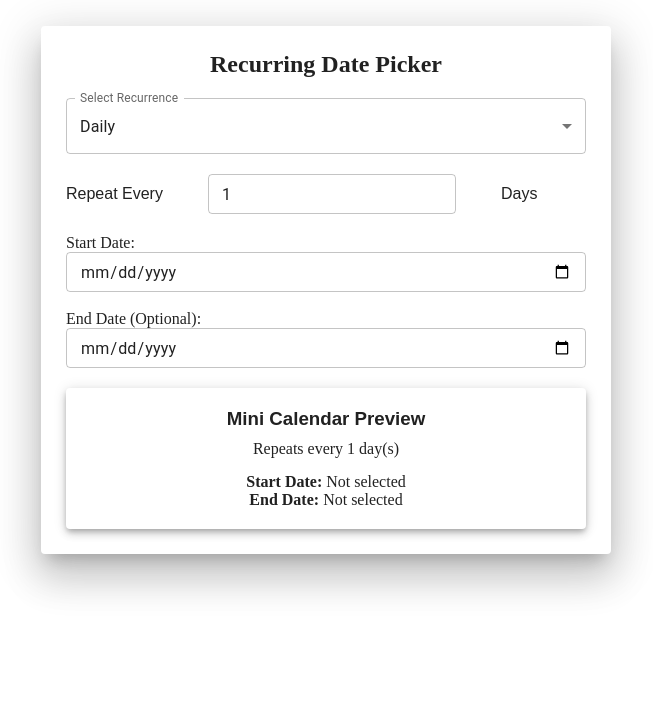
RecurringDatePicker Integration Tests › shows DaySelection when Weekly is selected
Press the mouse on the dropdown named "Select Recurrence" at (98, 126), box [80,116,115,136]
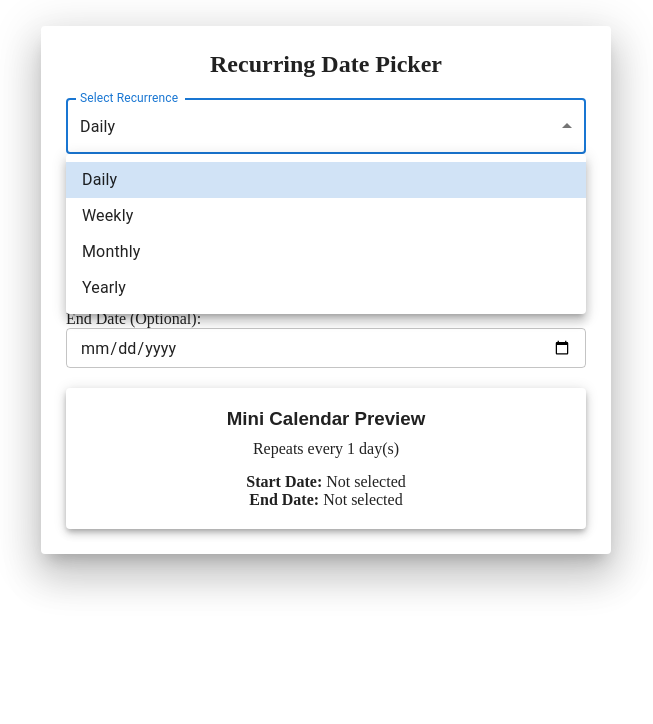
Click the option "Weekly" at (108, 216), box [82,206,133,225]
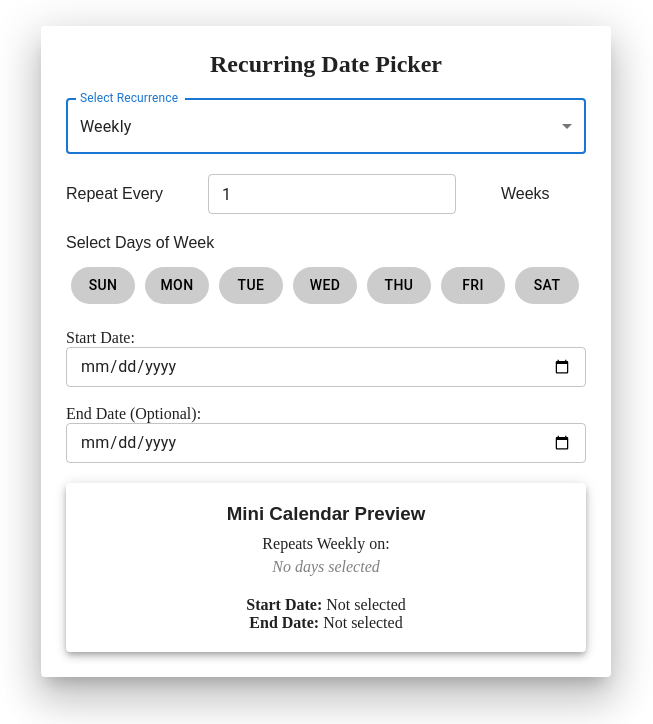
Expected: the text "Select Days of Week" is shown, [66,234,214,251]
